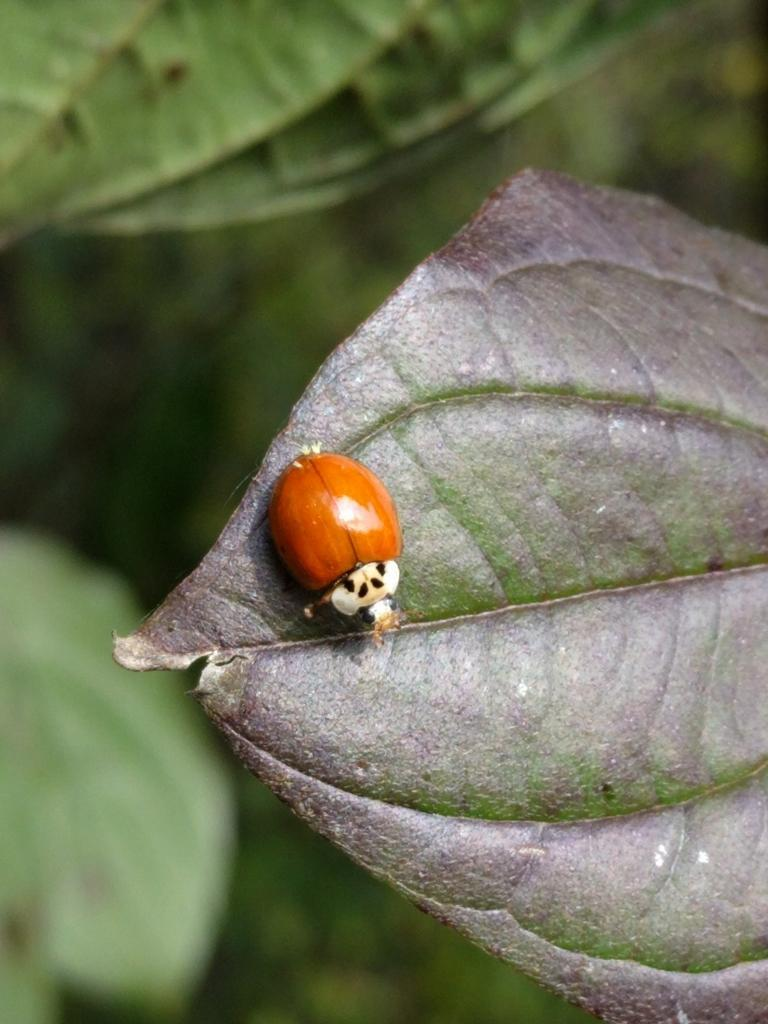ladybug: (263, 441, 409, 650)
